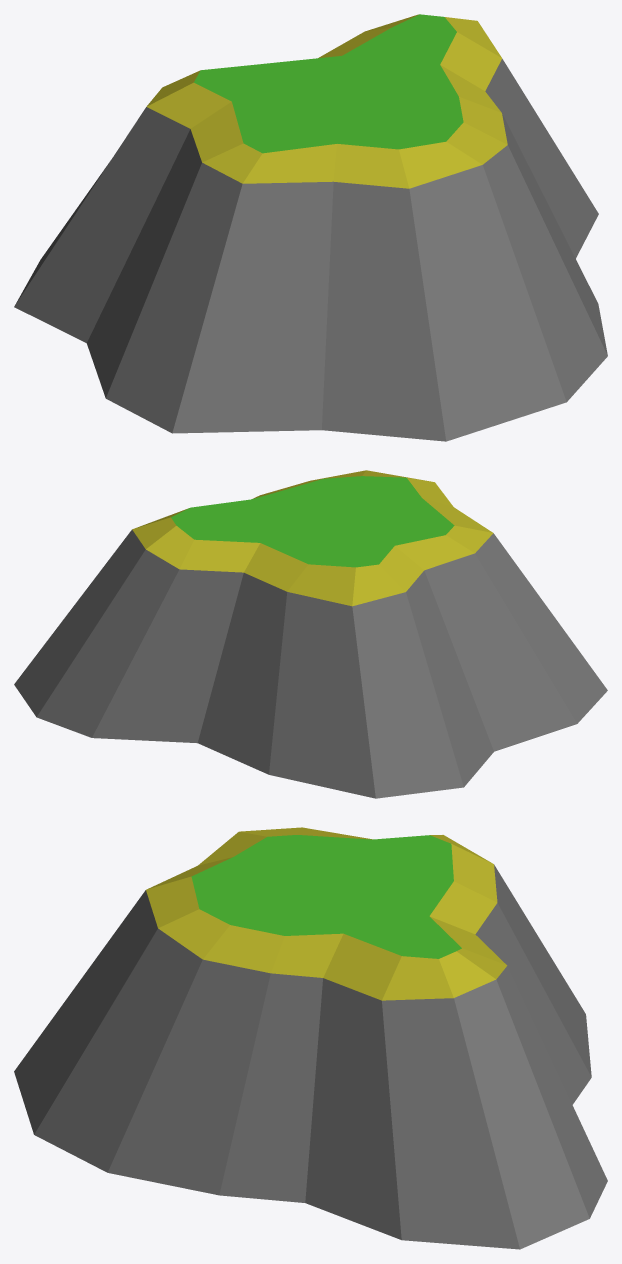
Rendered from rock.fbx.
3 views of the same model, one above another, from view 1: azimuth 30°, elevation 25°; view 2: azimuth 150°, elevation 25°; view 3: azimuth 270°, elevation 25° (orthographic). The views are drawn at different scales.
Visible parts, largest first — view 1: Vert; view 2: Vert; view 3: Vert.
Part boxes in pixels (box(x1,y1,x2,y2)): Vert: box(14, 14, 607, 441); Vert: box(14, 470, 607, 798); Vert: box(14, 827, 607, 1249).
Size of the model in its own units: 1502 by 1678 by 601.
